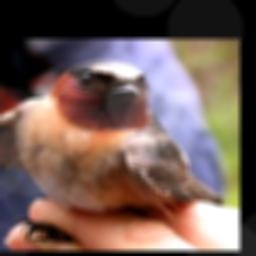Swallow: (0, 59, 224, 244)
